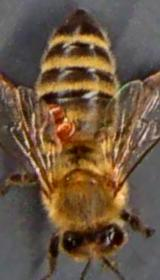varroa_mite: (40, 92, 68, 125), (52, 114, 80, 138)
